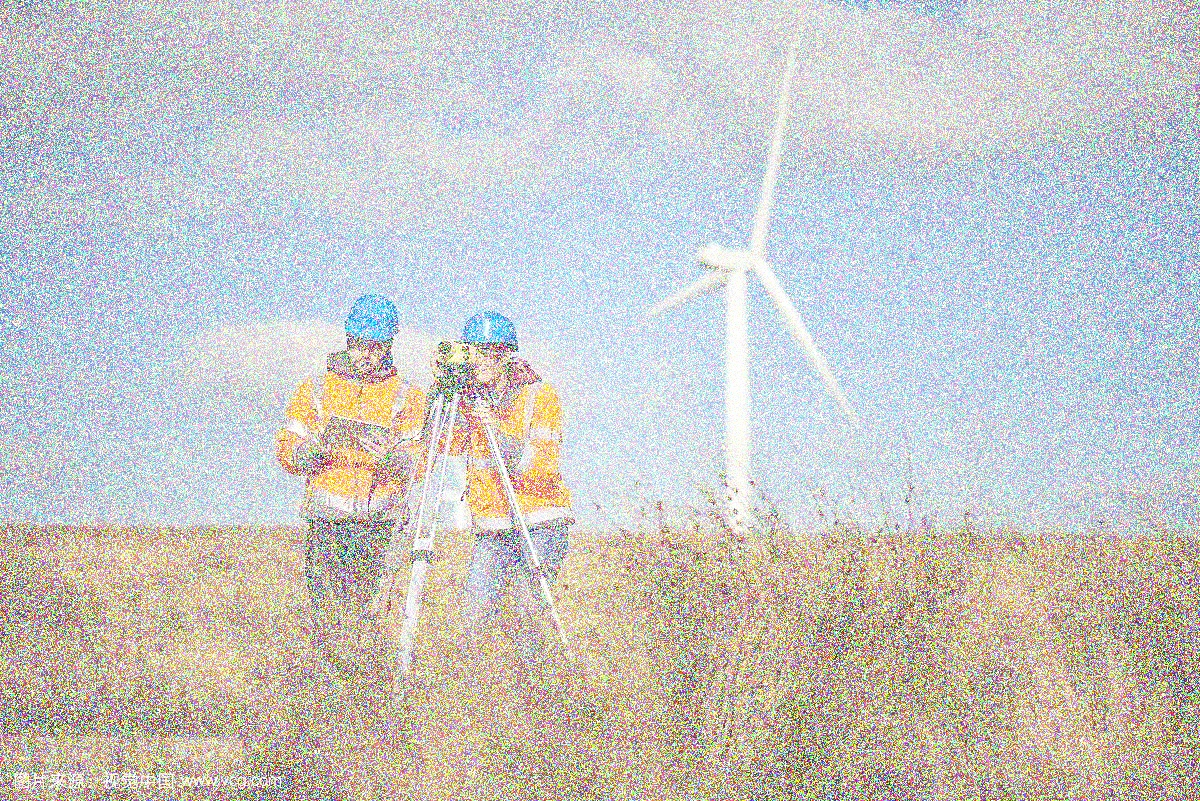helmet: (339, 289, 403, 379), (455, 307, 523, 386)
vest: (268, 367, 432, 518), (437, 379, 574, 526)
